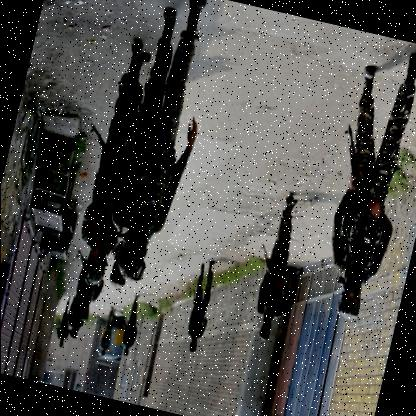rifle: (90, 74, 176, 203), (323, 125, 400, 235), (250, 244, 292, 300), (81, 124, 124, 175), (184, 290, 208, 331), (69, 245, 93, 277)
